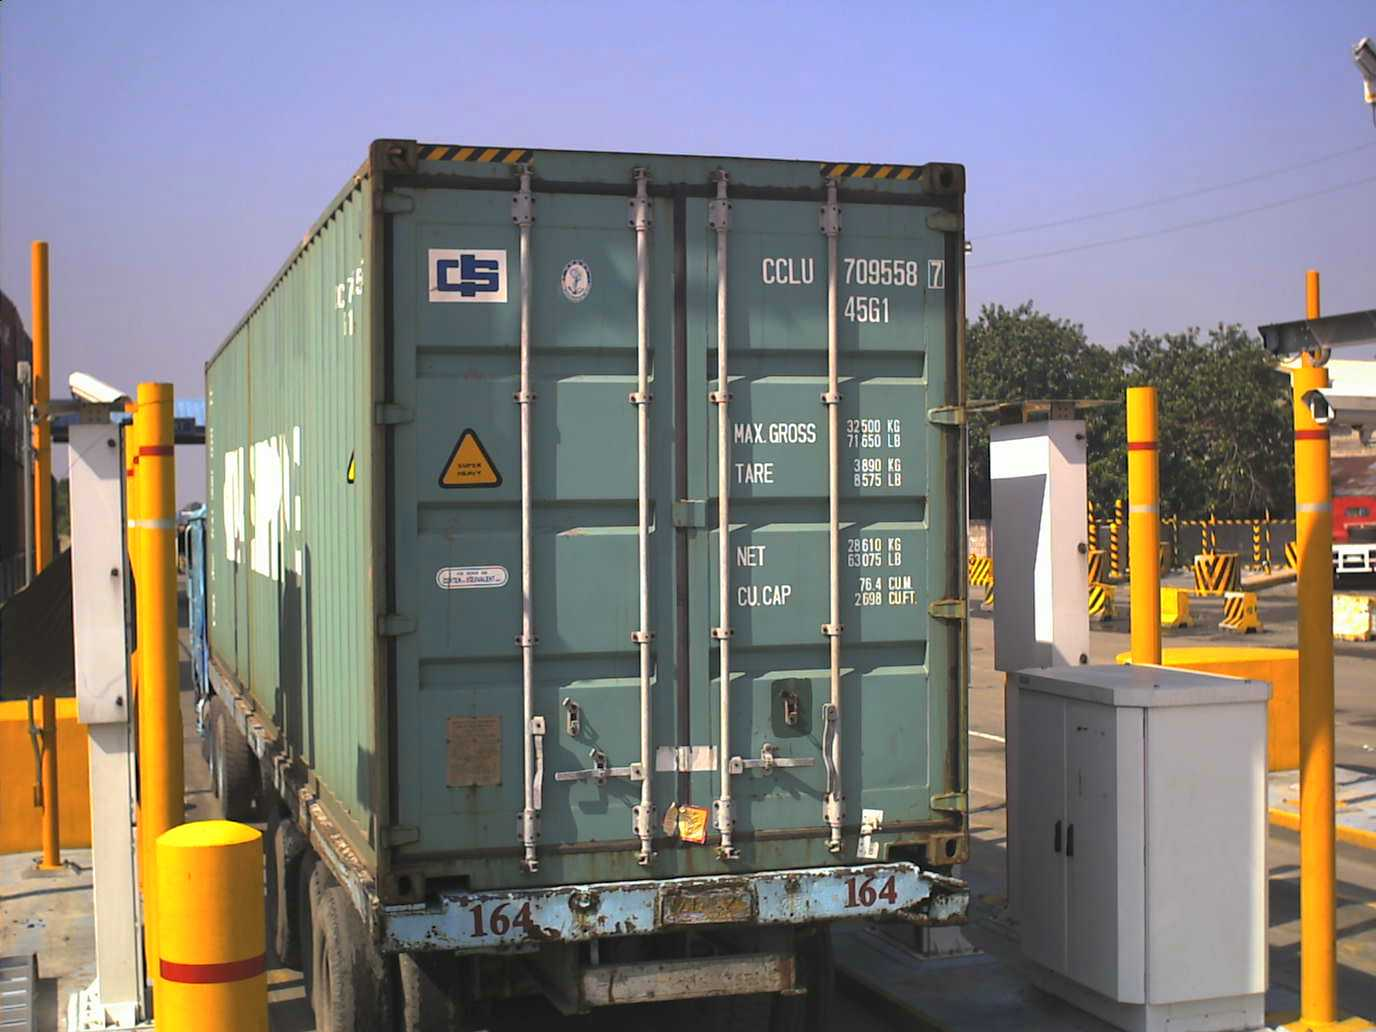container_door: (362, 127, 998, 907)
